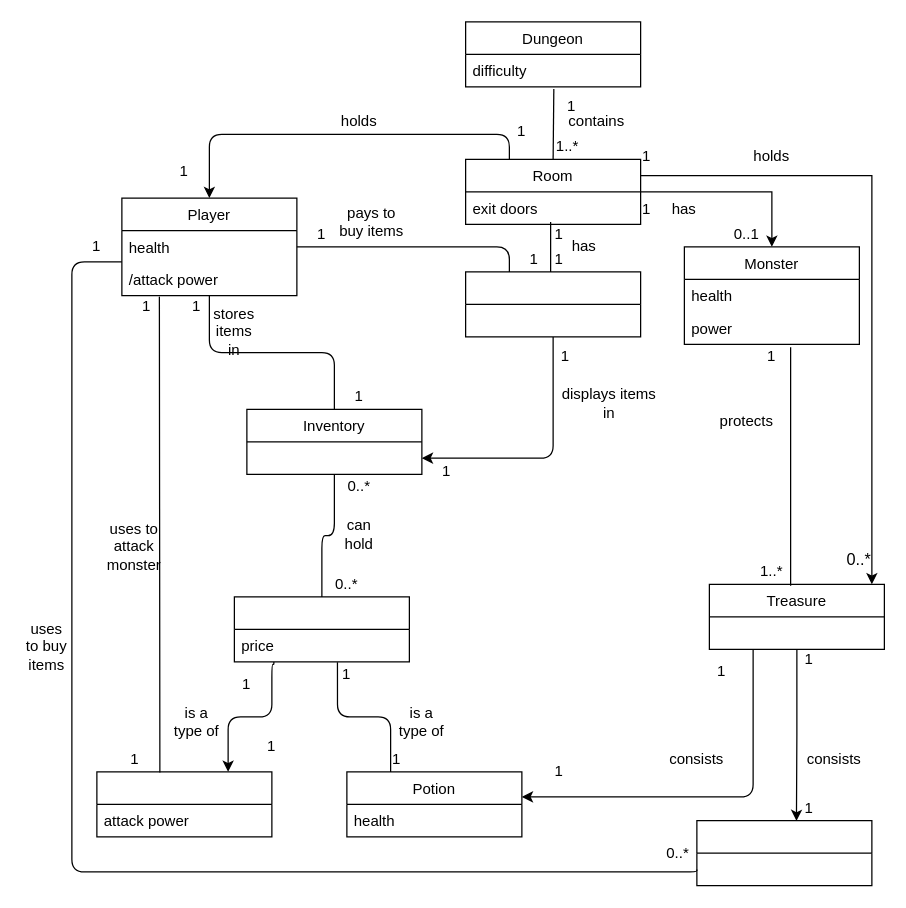
Image size: 906x908. Some labels were removed from this diagram. Each missing label, with the box of its shape:
Gold: (696, 819, 872, 886)
Item: (233, 596, 409, 662)
Shop: (464, 271, 641, 337)
Weapon: (96, 771, 272, 837)
